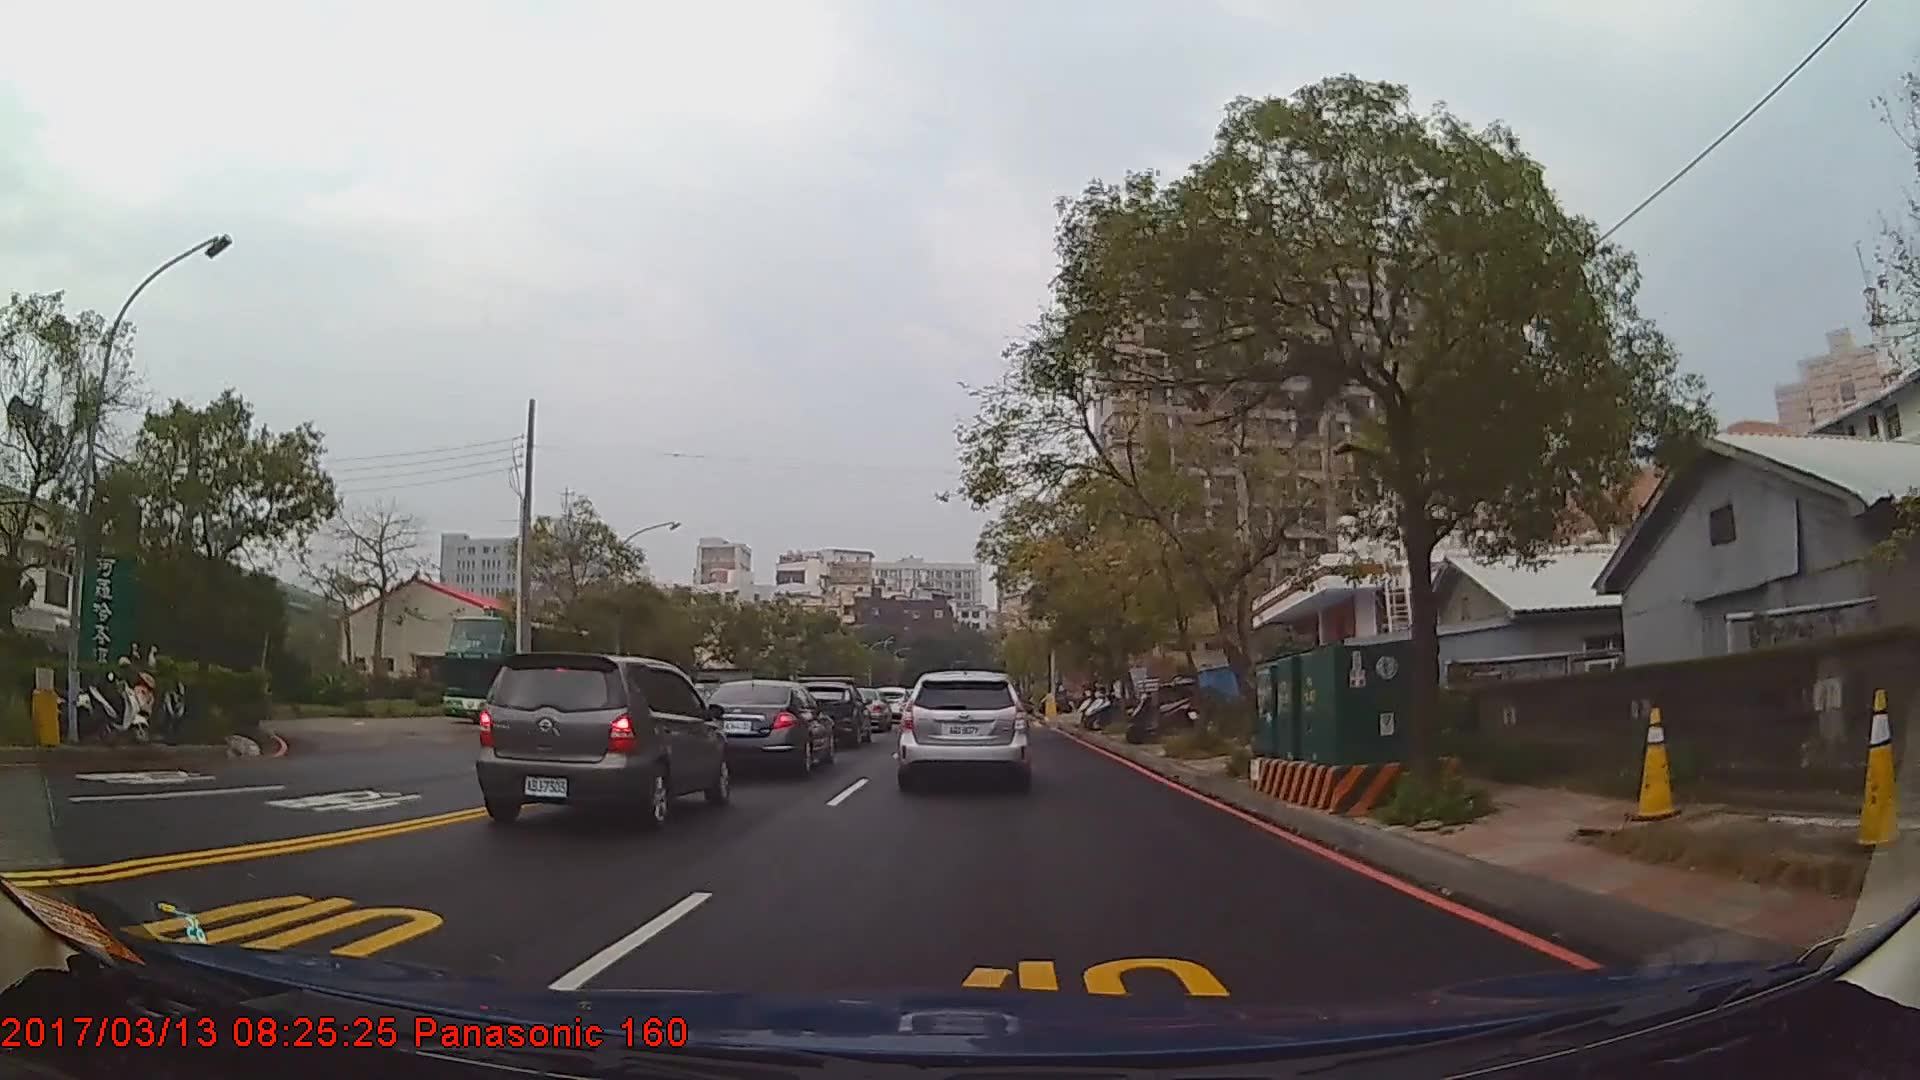vehicle: (473, 655, 732, 839), (443, 615, 613, 727), (897, 669, 1030, 789), (695, 678, 833, 775), (790, 680, 866, 746)
